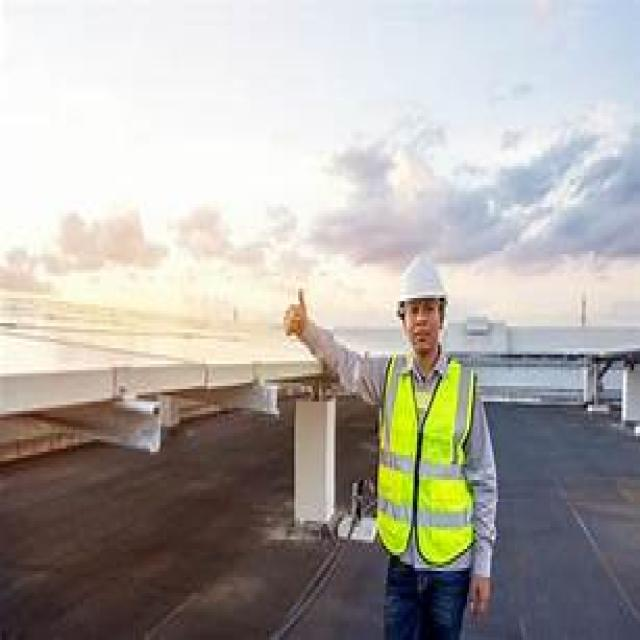not-gloved: (467, 562, 507, 626), (285, 285, 316, 344)
